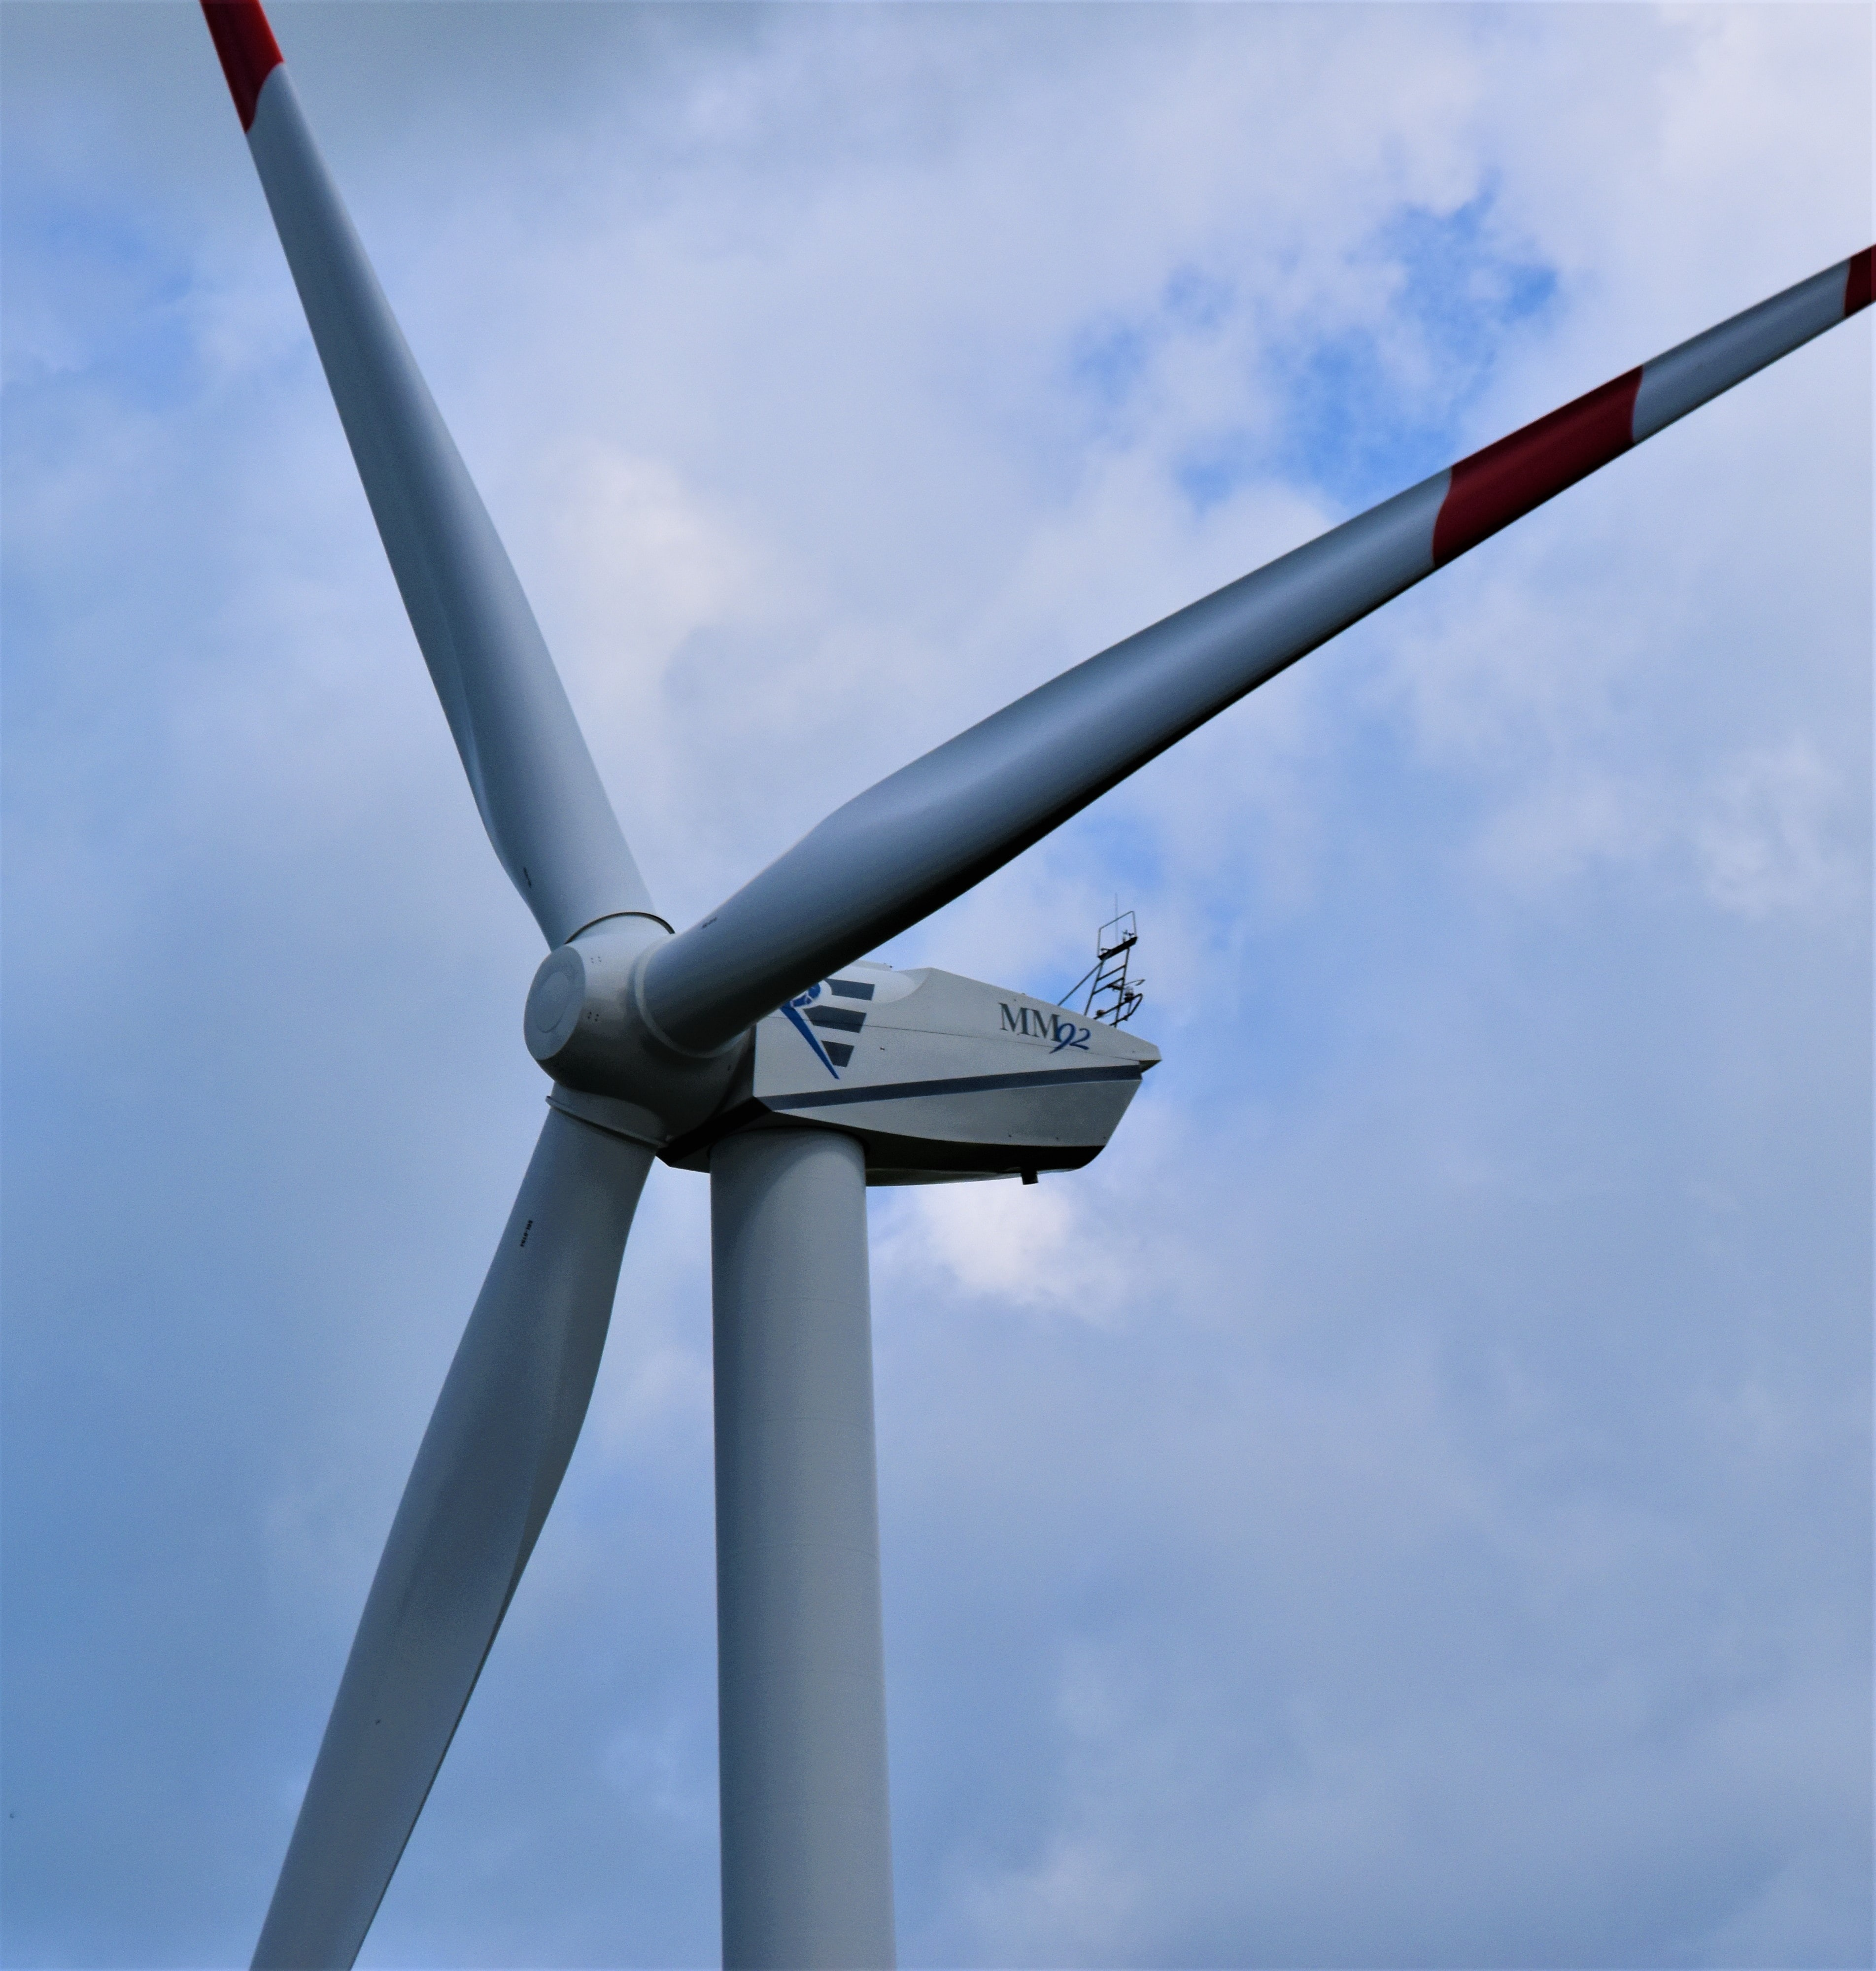working: (387, 586, 1052, 1464)
